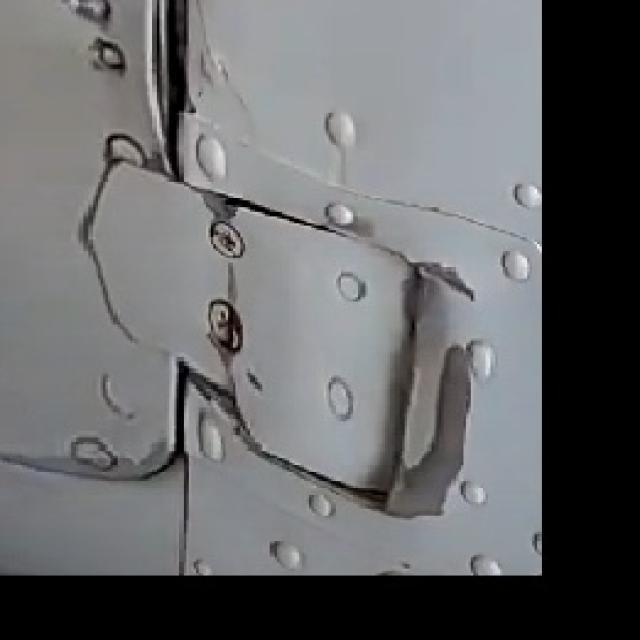crack: (206, 265, 265, 314)
